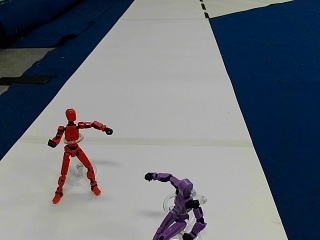pedestrian: (47, 108, 110, 202), (144, 171, 206, 237)
